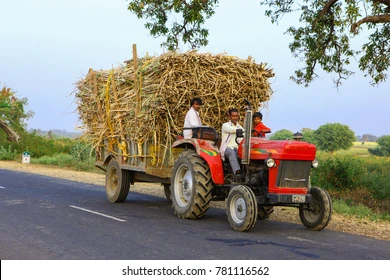wheel: (170, 149, 206, 220), (227, 185, 253, 231), (105, 159, 123, 203)
